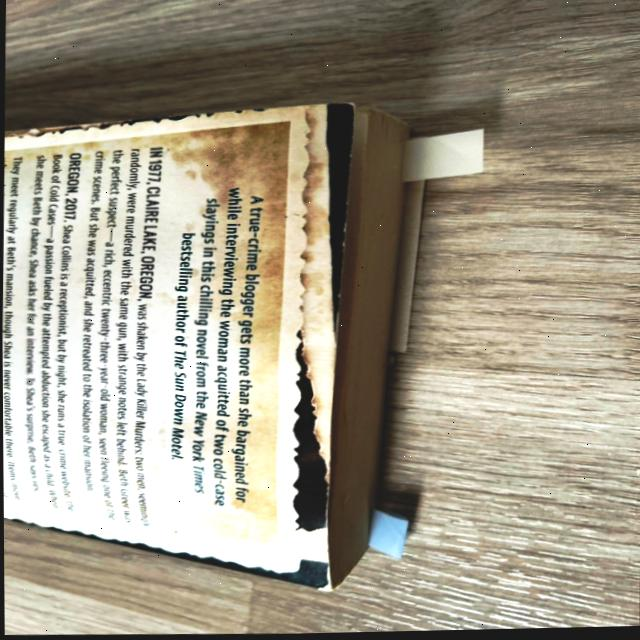Book: (2, 106, 354, 601), (327, 106, 486, 594)
